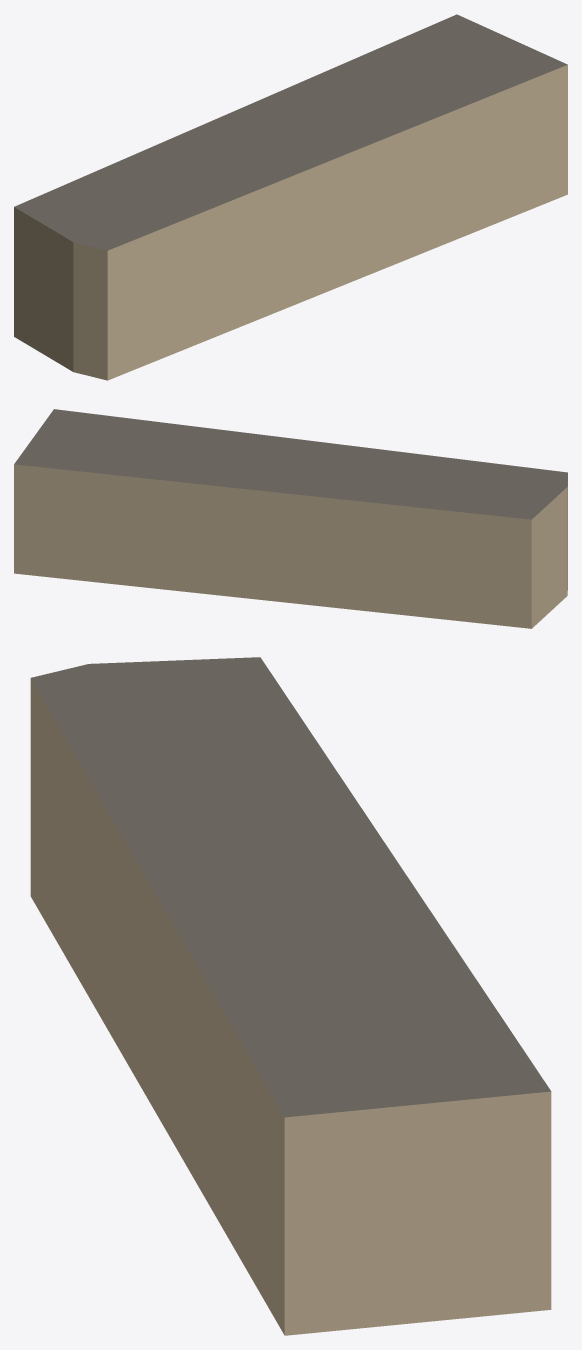
The picture shows the model from 3 angles, top to bottom: view 1: azimuth 30°, elevation 25°; view 2: azimuth 150°, elevation 25°; view 3: azimuth 270°, elevation 25°; orthographic projection. The views are drawn at different scales.
Parts seen in each view (by area): view 1: HP-w900242873; view 2: HP-w900242873; view 3: HP-w900242873.
Boxes of the visible parts, box(x1,y1,x2,y2) form: HP-w900242873: box(14, 14, 567, 380); HP-w900242873: box(14, 409, 567, 628); HP-w900242873: box(30, 657, 551, 1335).
Size of the model in its own units: 29.84 by 6.6 by 14.27.
